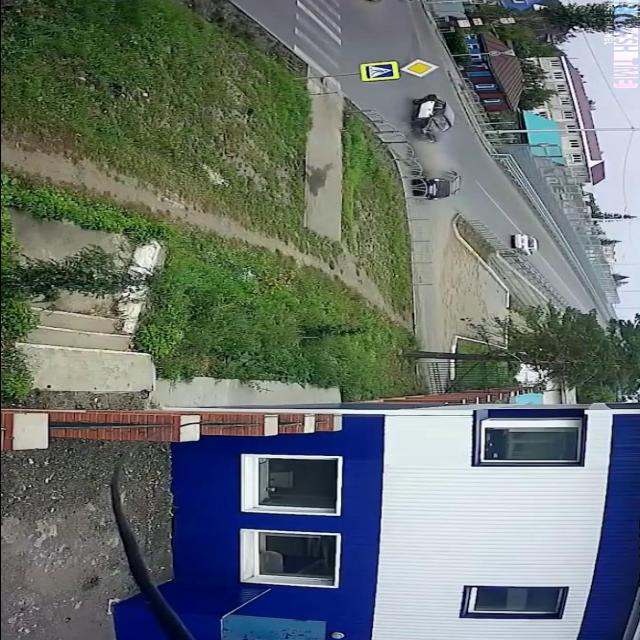accident: (396, 91, 473, 206)
